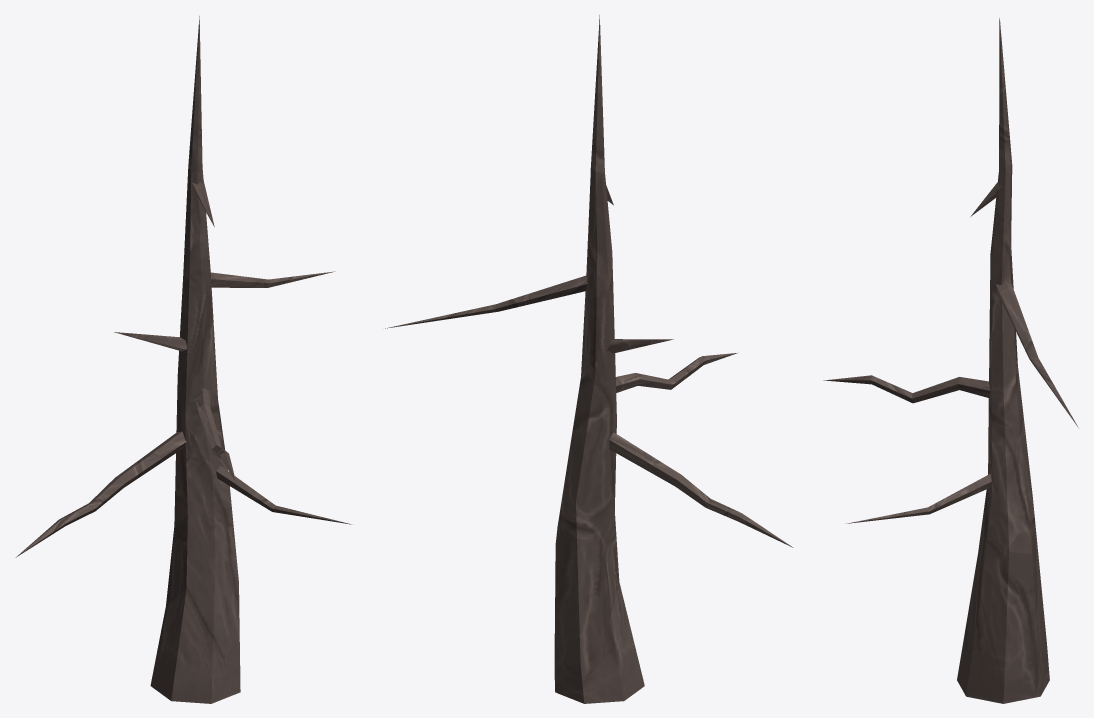
Rendered from SM_Tree_01.fbx.
3 views of the same model, side by side, from view 1: azimuth 30°, elevation 25°; view 2: azimuth 150°, elevation 25°; view 3: azimuth 270°, elevation 25° (orthographic).
Parts seen in each view (by area): view 1: SM_ArbreLow2; view 2: SM_ArbreLow2; view 3: SM_ArbreLow2.
Part boxes in pixels (box(x1,y1,x2,y2)): SM_ArbreLow2: box(15, 16, 351, 703); SM_ArbreLow2: box(385, 15, 793, 703); SM_ArbreLow2: box(823, 18, 1078, 703).
Bounding box in the file's own units: 130 × 227 × 78.69.
